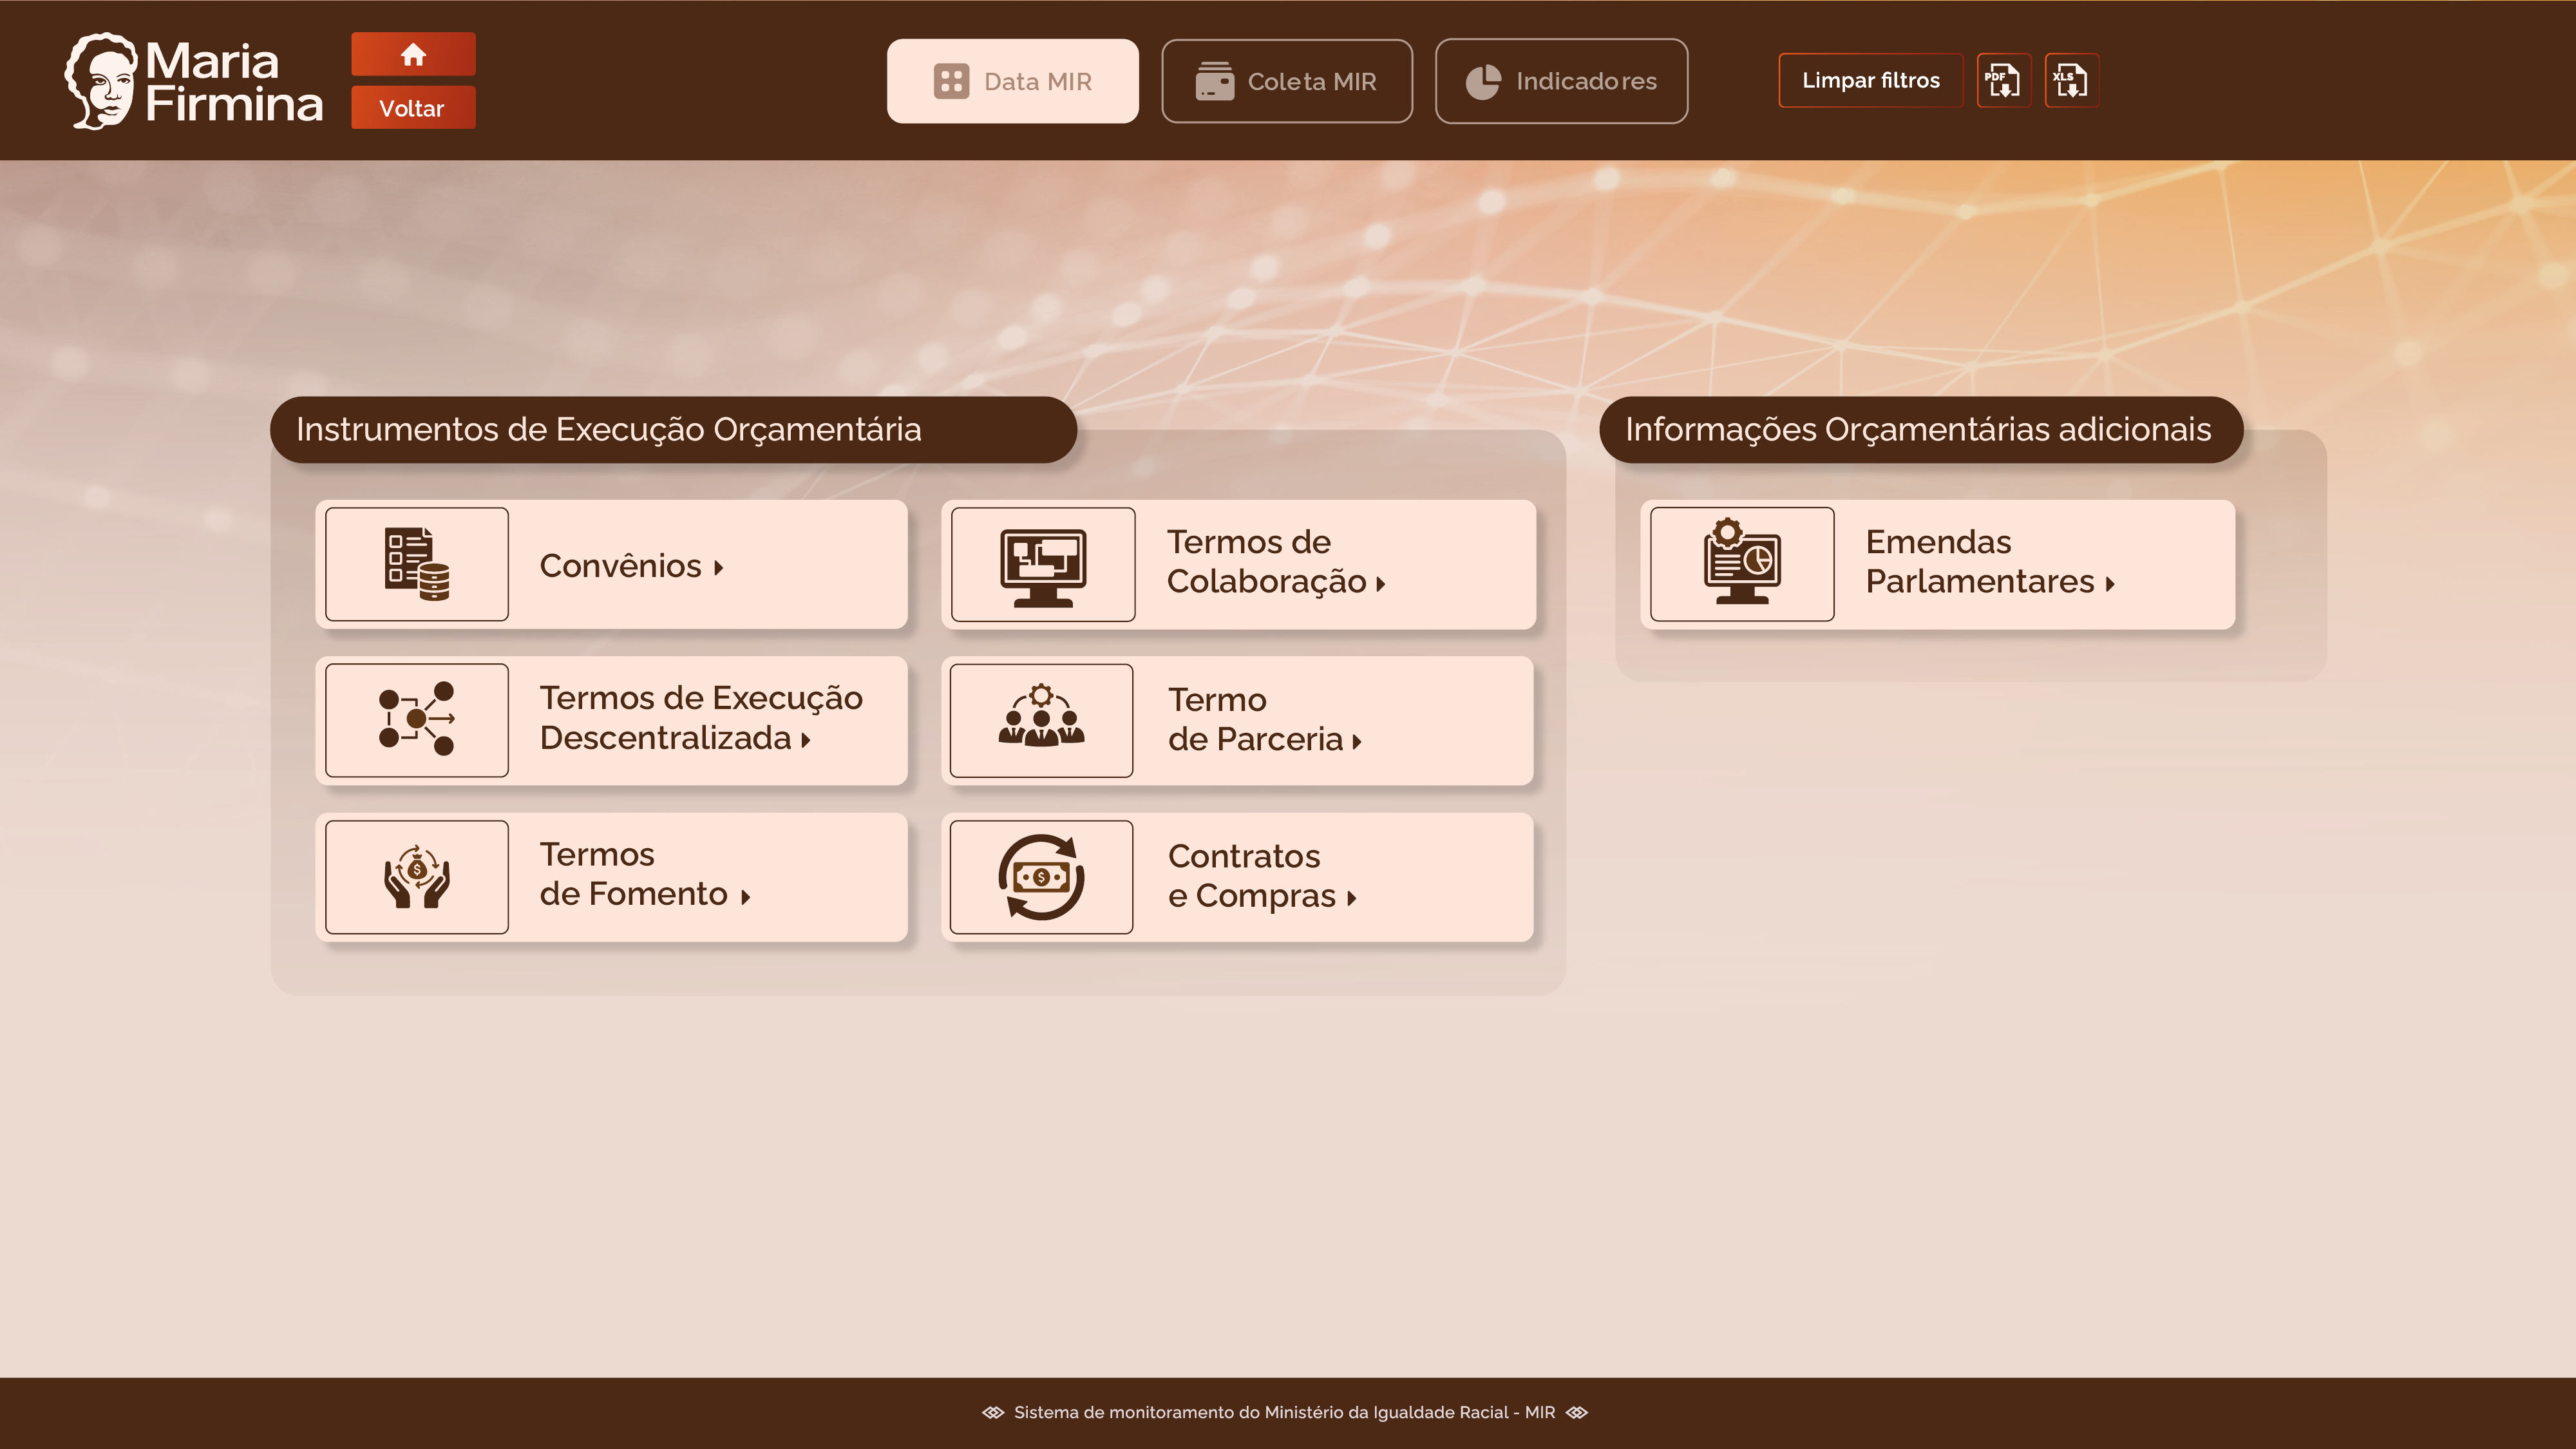

This screenshot's page, from the dashboard's own definition file:
{"tool":"powerbi","page":{"name":"Sel_dimensoes_gestão","canvas":[1920,1080],"ordinal":3},"visuals":[{"type":"actionButton","box":[262,58.2,94.3,32.9],"z":0},{"type":"actionButton","box":[262.2,19,92.2,33.3],"z":1},{"type":"textbox","box":[1643.1,25.5,167.6,71.8],"z":2},{"type":"actionButton","box":[1327.2,36.9,137.8,38.9],"z":3},{"type":"image","box":[1820.5,38.2,53.3,37.8],"z":4},{"type":"actionButton","box":[661.9,24.9,187.3,62.7],"z":5},{"type":"actionButton","box":[866.5,24.9,187.3,62.7],"z":6},{"type":"actionButton","box":[1069.9,26.2,187.3,62.7],"z":7},{"type":"actionButton","box":[960.3,498.6,455.6,98.2],"z":8},{"type":"actionButton","box":[481.7,500.1,452.6,99.7],"z":9}]}

Visuals, with their boxes in screenshot pixels (x1, y1, x2, y2), scaled from the page's 1920x1080 canvas onto the 2576x1449 screenshot:
actionButton: select_region(352, 78, 478, 122)
actionButton: select_region(352, 26, 475, 70)
textbox: select_region(2204, 34, 2429, 131)
actionButton: select_region(1781, 50, 1965, 102)
image: select_region(2443, 52, 2514, 102)
actionButton: select_region(888, 33, 1139, 117)
actionButton: select_region(1162, 33, 1414, 117)
actionButton: select_region(1435, 35, 1687, 119)
actionButton: select_region(1289, 669, 1900, 800)
actionButton: select_region(647, 671, 1253, 805)
